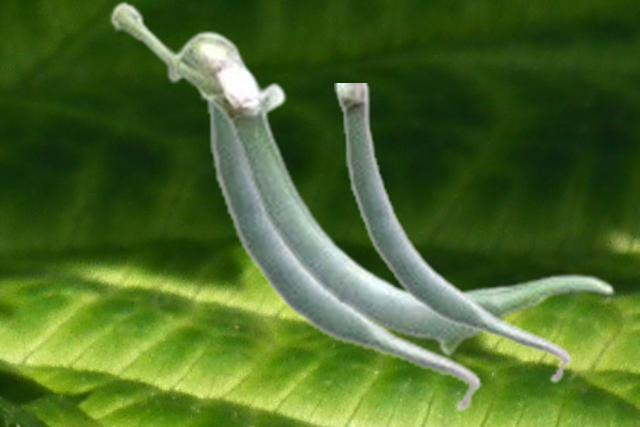french_bean: (109, 0, 614, 356), (201, 53, 481, 413), (334, 83, 571, 384)
